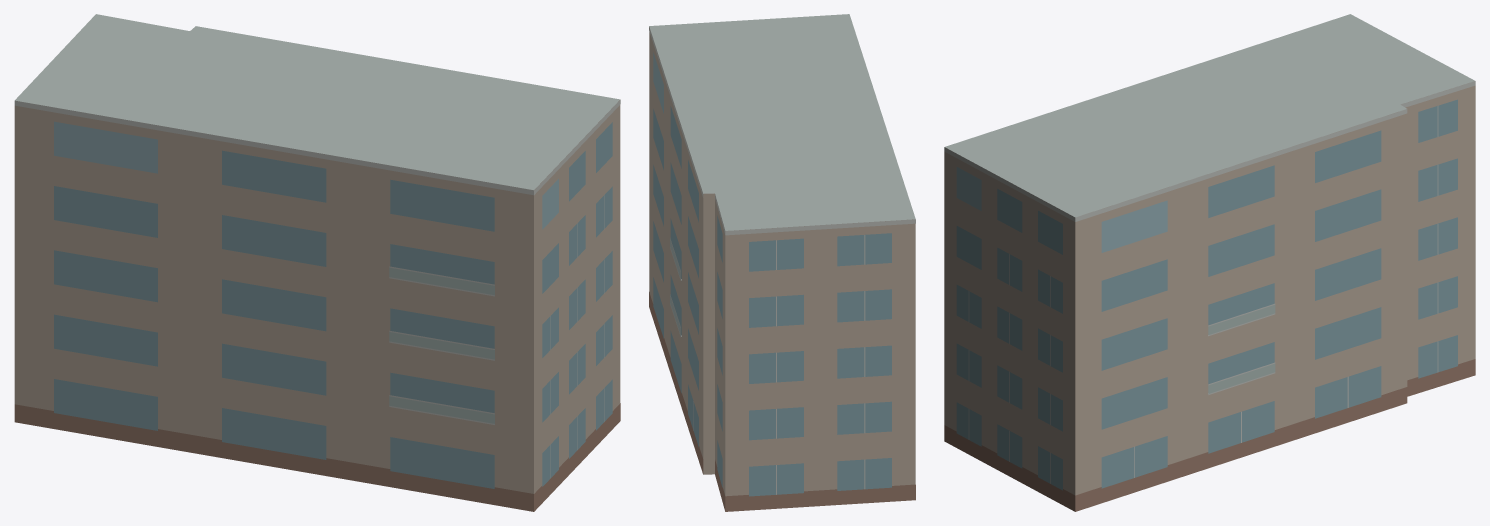
Rendered from survey-upis-32583526.glb.
3 renders of one model, left to right at view 1: azimuth 30°, elevation 25°; view 2: azimuth 150°, elevation 25°; view 3: azimuth 270°, elevation 25°, orthographic. The views are drawn at different scales.
Parts seen in each view (by area): view 1: survey-upis-32583526.tmp; view 2: survey-upis-32583526.tmp; view 3: survey-upis-32583526.tmp.
Part boxes in pixels (left/top/right/bottom): survey-upis-32583526.tmp: left=14, top=14, right=620, bottom=511; survey-upis-32583526.tmp: left=649, top=14, right=915, bottom=511; survey-upis-32583526.tmp: left=944, top=14, right=1475, bottom=511.
Size of the model in its own units: 23.06 by 15.55 by 25.43.
